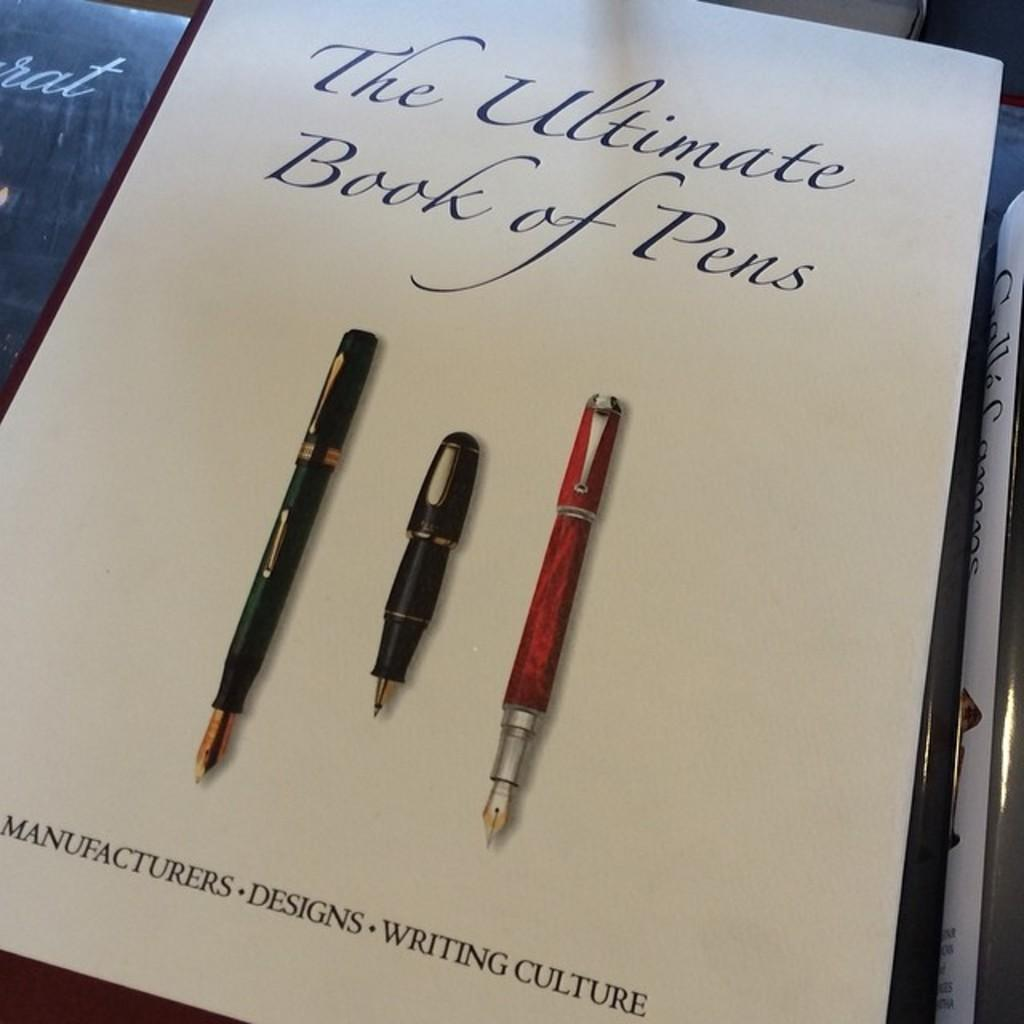pen: (197, 326, 376, 786), (478, 395, 627, 854), (365, 424, 490, 720)
